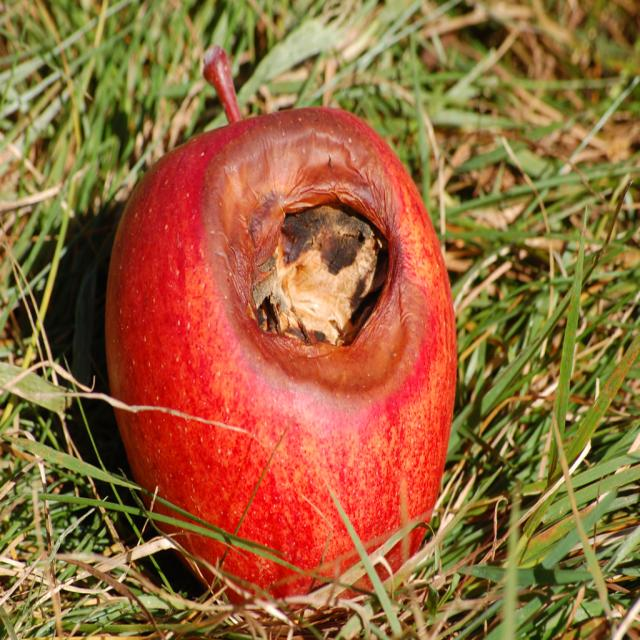Healty Apple: (126, 79, 454, 611)
